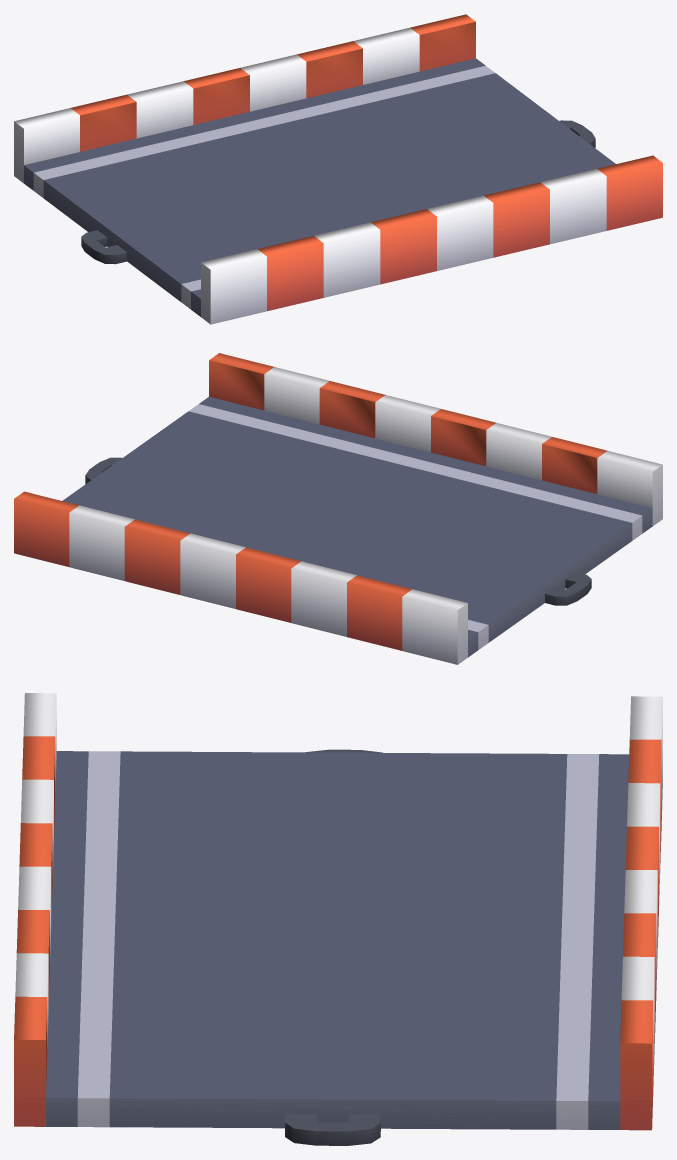
Rendered from track-road-wide-straight.002_lev2.glb.
3 views of the same model, one above another, from view 1: azimuth 30°, elevation 25°; view 2: azimuth 150°, elevation 25°; view 3: azimuth 270°, elevation 25° (orthographic). The views are drawn at different scales.
Parts seen in each view (by area): view 1: track-road-wide-straight.002_lev2; view 2: track-road-wide-straight.002_lev2; view 3: track-road-wide-straight.002_lev2.
Boxes of the visible parts, x1,y1,x2,y2 form: track-road-wide-straight.002_lev2: (14,14,662,324); track-road-wide-straight.002_lev2: (14,353,662,664); track-road-wide-straight.002_lev2: (14,693,662,1145).
Bounding box in the file's own units: 2.83 × 0.3 × 2.03.
Materials: 1 (1 with a texture image).
